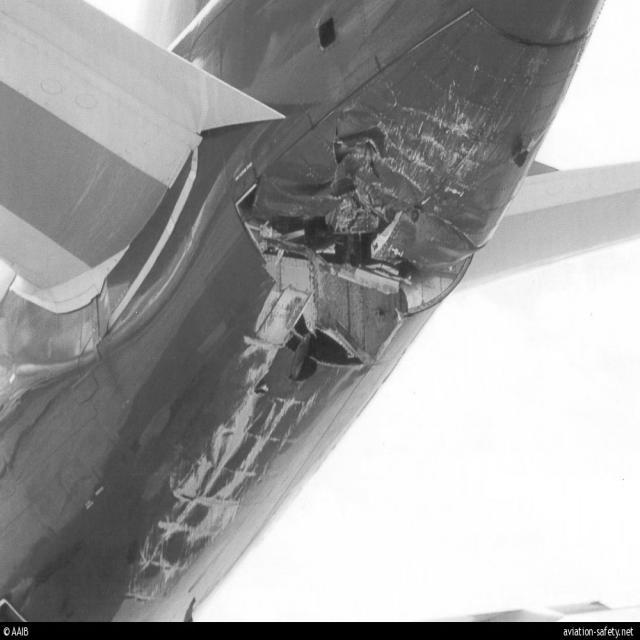crack: (233, 127, 422, 388)
